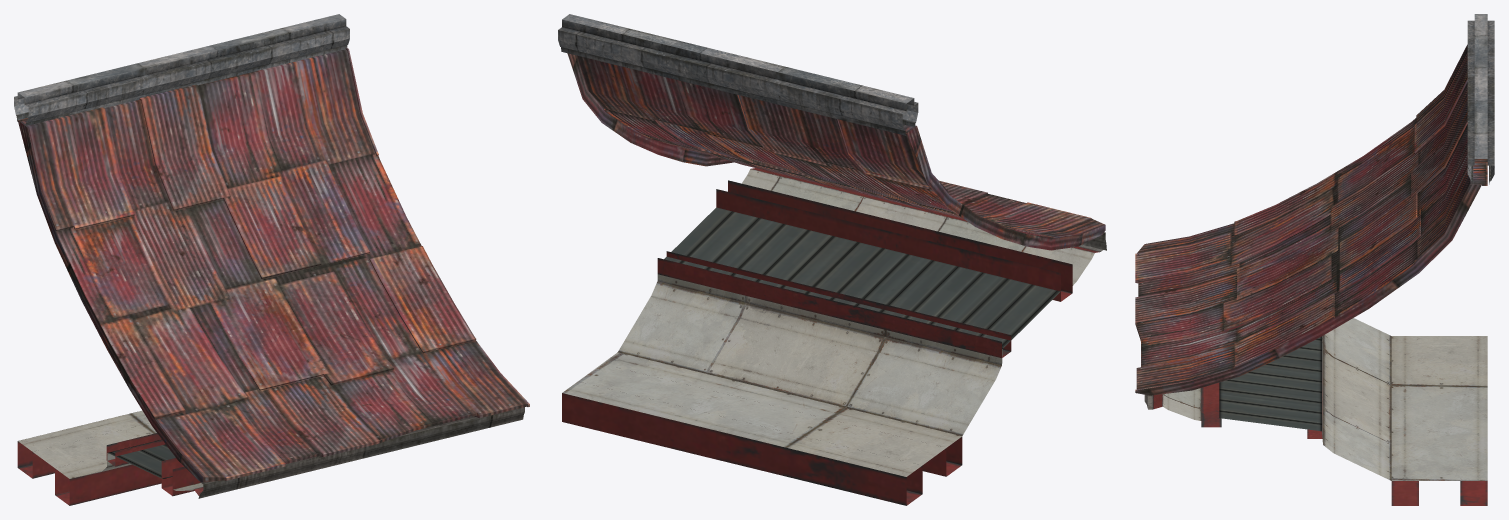
The model's file is Pagoda_Tile_Roof_2500x2500_A.FBX.
3 renders of one model, left to right at view 1: azimuth 30°, elevation 25°; view 2: azimuth 150°, elevation 25°; view 3: azimuth 270°, elevation 25°, orthographic. The views are drawn at different scales.
Visible parts, largest first — view 1: Geometry_Pagoda_Tile_Roof_2500x2500_A_LOD00; view 2: Geometry_Pagoda_Tile_Roof_2500x2500_A_LOD00; view 3: Geometry_Pagoda_Tile_Roof_2500x2500_A_LOD00.
Part boxes in pixels (left/top/right/bottom): Geometry_Pagoda_Tile_Roof_2500x2500_A_LOD00: left=14, top=14, right=529, bottom=505; Geometry_Pagoda_Tile_Roof_2500x2500_A_LOD00: left=558, top=14, right=1106, bottom=505; Geometry_Pagoda_Tile_Roof_2500x2500_A_LOD00: left=1135, top=14, right=1494, bottom=505.
Size of what is drawn, in the model's own units: 2524 by 2789 by 2618.
Materials: 3 (3 with a texture image).
